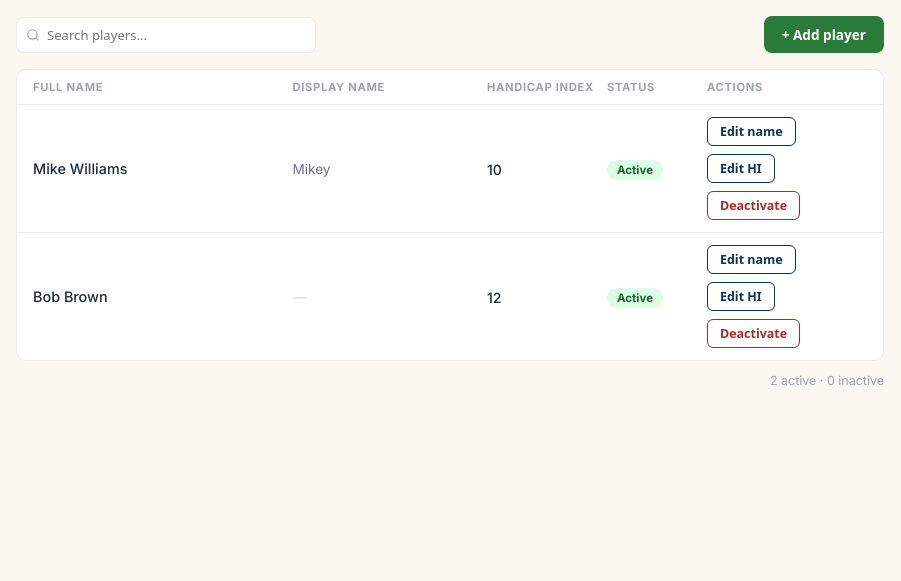
Test: Players — Edit Player Name › opens the editor pre-filled with full_name + display_name
The image size is (901, 581).
What coordinates should you click on to do the following:
click the button with test id "edit-name-link-1"
I would click on:
 (751, 132)
Its box is [707,117,796,146].
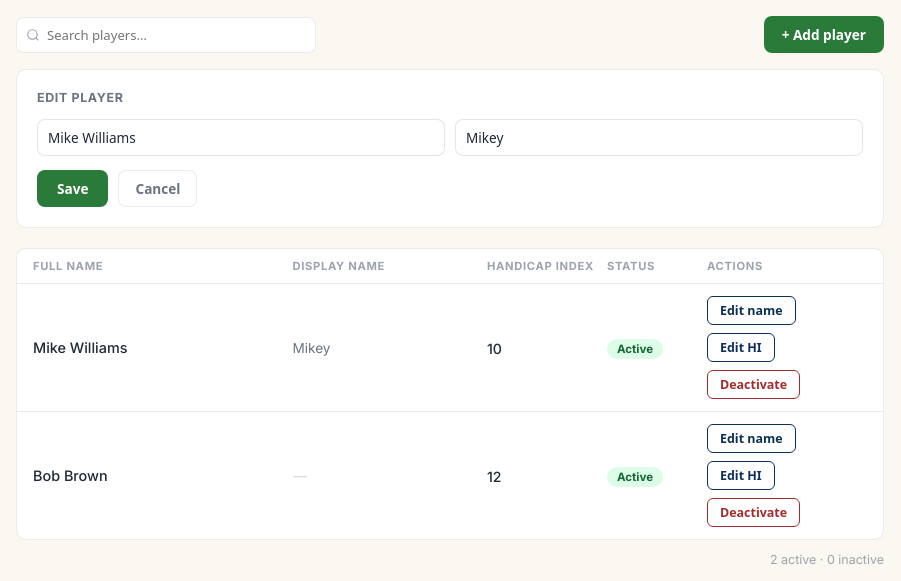
Expected: the element with test id "edit-name-form" is shown, [16,69,884,228]
Expected: the field with test id "edit-name-fullname" holds "Mike Williams", [37,119,445,156]
Expected: the field with test id "edit-name-displayname" holds "Mikey", [455,119,863,156]
